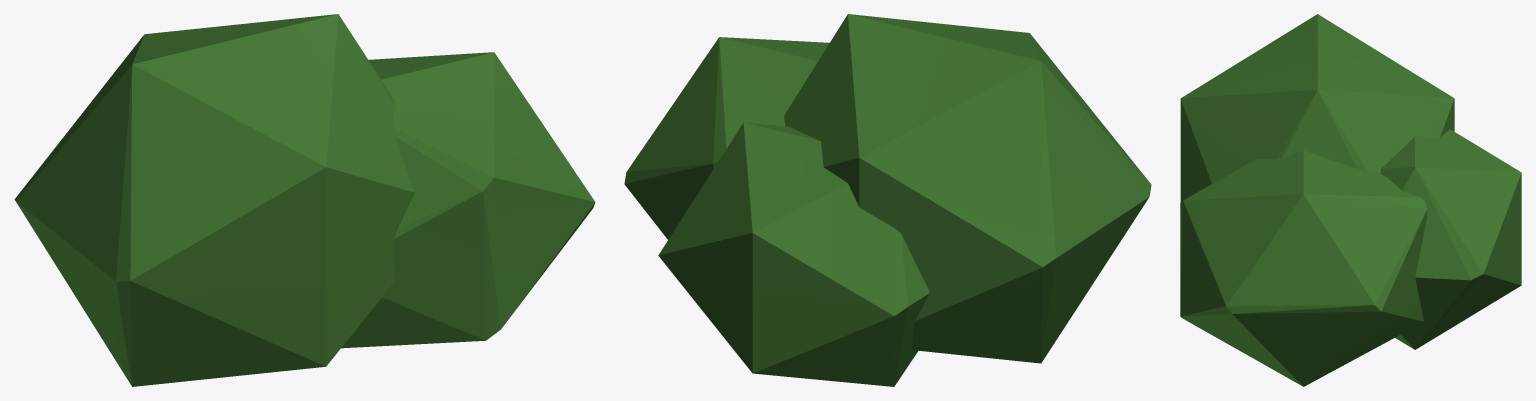
The model's file is prop_bush_lod2.glb.
The picture shows the model from 3 angles, left to right: view 1: azimuth 30°, elevation 25°; view 2: azimuth 150°, elevation 25°; view 3: azimuth 270°, elevation 25°; orthographic projection. The views are drawn at different scales.
Visible parts, largest first — view 1: prop_bush_lod2; view 2: prop_bush_lod2; view 3: prop_bush_lod2.
Boxes of the visible parts, x1,y1,x2,y2 form: prop_bush_lod2: (14,14,595,386); prop_bush_lod2: (624,14,1151,386); prop_bush_lod2: (1180,14,1521,386).
Size of the model in its own units: 1.76 by 1.16 by 1.47.
